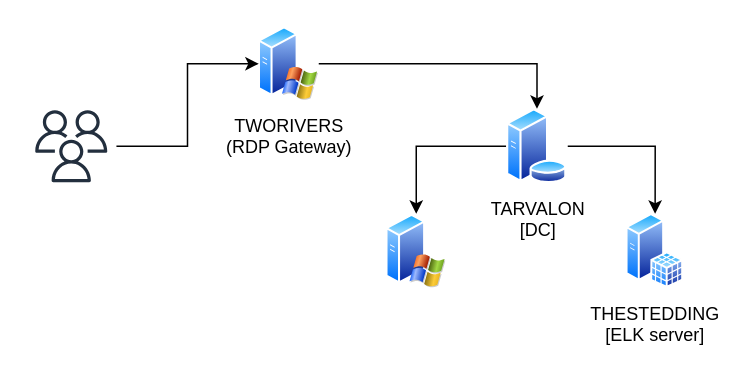
Image size: 746x372. Some labels were removed from this diagram. Here are the shapes that lost their labels. From the top down, the box of each, then its label:
(25, 100, 116, 191): Users
(386, 213, 446, 288): DRAGONMOUNT [File server]
